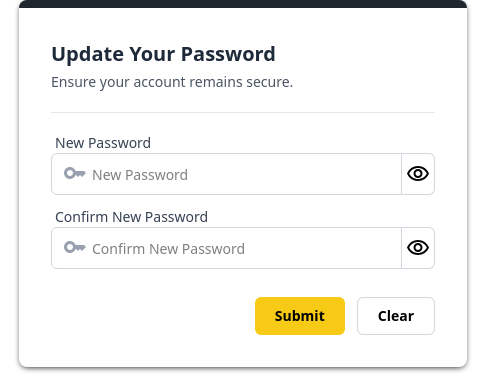
Test: APP - Auth - ChangePasswordPage › should reset the formState to Default on resetBtn click
Type "ValidP@ss1" into the password field with test id "password-field" at (226, 174), box [51,153,402,195]
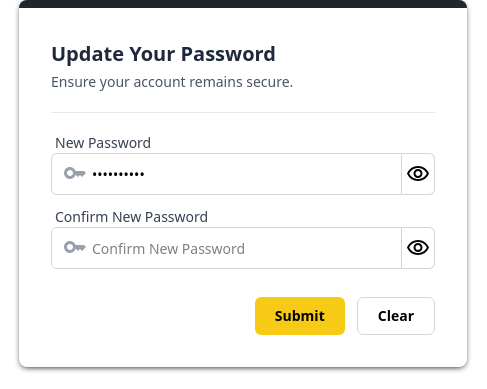
Type "ValidP@ss1" into the password field with test id "cnfPassword-field" at (226, 248), box [51,227,402,269]
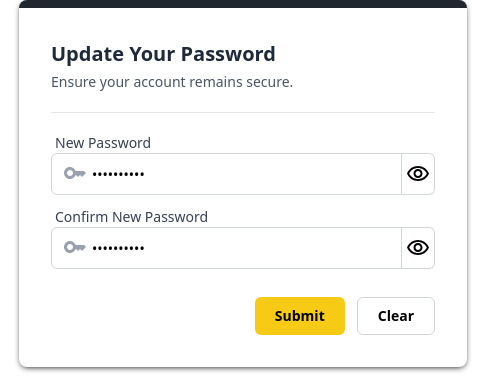
Click the button with test id "reset-btn" at (396, 316), box [357,297,435,335]
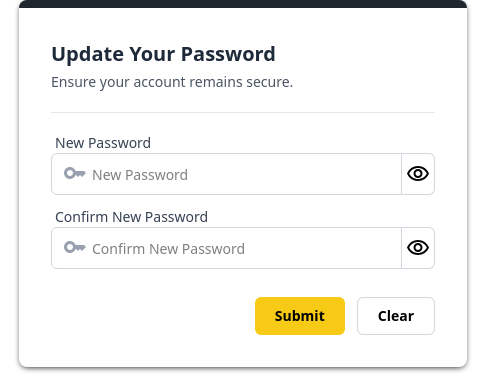
Result: the password field with test id "password-field" is empty at [51,153,402,195]
Result: the password field with test id "cnfPassword-field" is empty at [51,227,402,269]
